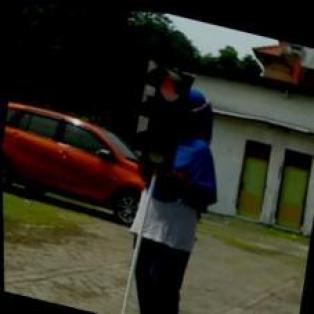Semoforo Rojo: (129, 59, 195, 173)
